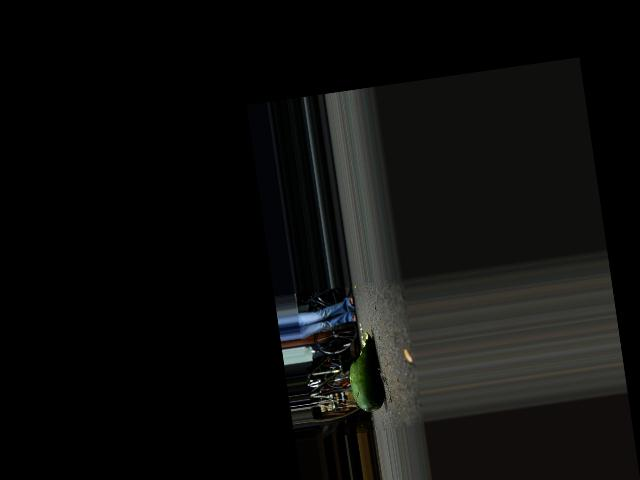cucumber: (343, 329, 385, 413)
